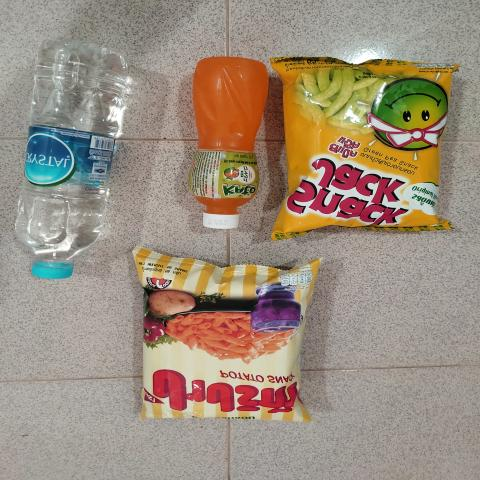crystal: (0, 42, 141, 284)
paprika: (141, 255, 318, 421)
snack_jack: (286, 61, 437, 230)
